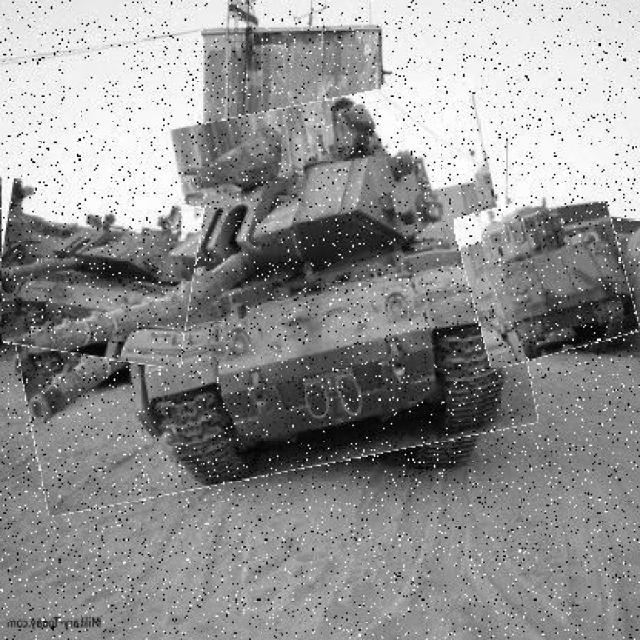Tank: (3, 95, 526, 498), (3, 186, 200, 364), (461, 190, 633, 361)
